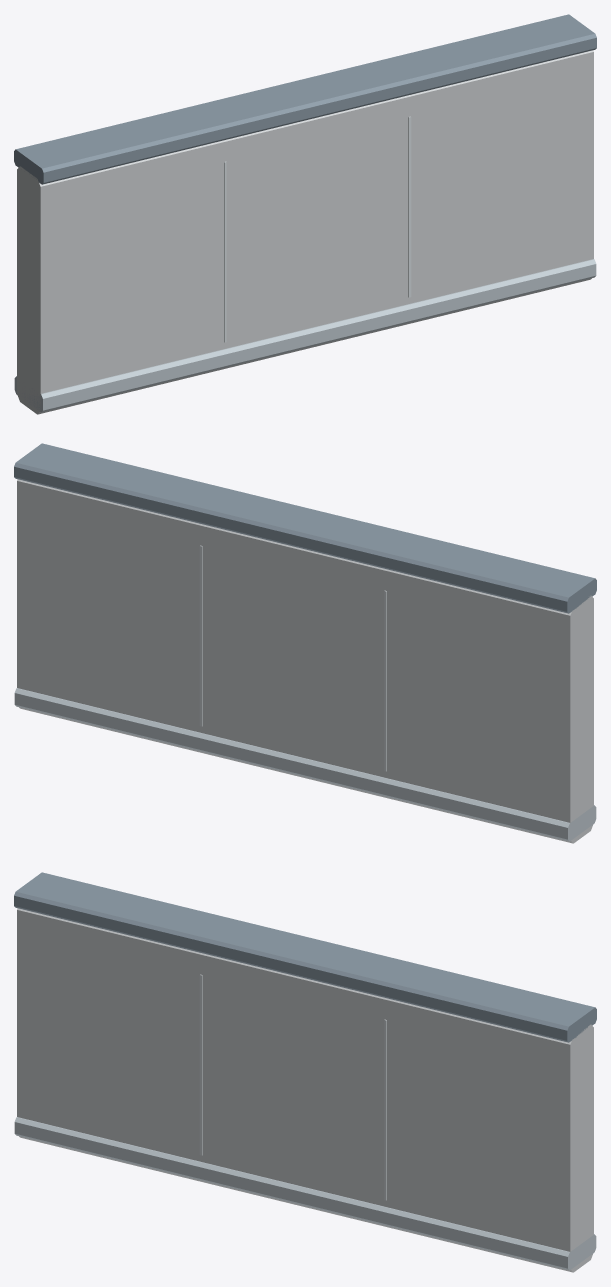
File: wall_school_lobby.glb
The picture shows the model from 3 angles, top to bottom: view 1: azimuth 30°, elevation 25°; view 2: azimuth 150°, elevation 25°; view 3: azimuth 330°, elevation 25°; orthographic projection.
Visible parts, largest first — view 1: Part_001, Part_002, Part_003, Part_007, Part_005; view 2: Part_001, Part_002, Part_003, Part_006, Part_004; view 3: Part_001, Part_002, Part_003, Part_005, Part_007.
Part boxes in pixels (bbox=[...]): Part_001: bbox=[17, 50, 593, 414]; Part_002: bbox=[14, 14, 596, 184]; Part_003: bbox=[14, 259, 596, 412]; Part_007: bbox=[408, 116, 411, 297]; Part_005: bbox=[224, 161, 226, 342]; Part_001: bbox=[17, 479, 593, 843]; Part_002: bbox=[14, 443, 596, 613]; Part_003: bbox=[14, 688, 596, 841]; Part_006: bbox=[199, 545, 202, 726]; Part_004: bbox=[384, 590, 386, 771]; Part_001: bbox=[17, 908, 593, 1272]; Part_002: bbox=[14, 872, 596, 1042]; Part_003: bbox=[14, 1117, 596, 1270]; Part_005: bbox=[199, 974, 202, 1155]; Part_007: bbox=[384, 1019, 386, 1200].
Bounding box in the file's own units: 2.7 × 1.16 × 0.25.
